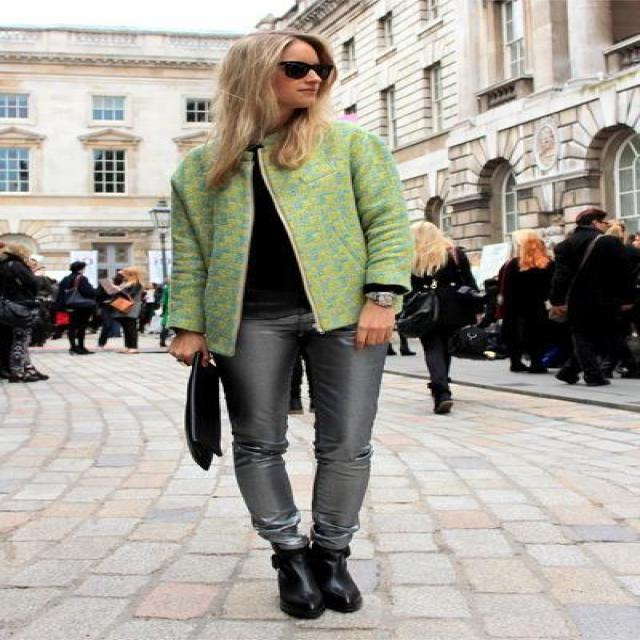bag: (178, 346, 246, 469)
jacket: (134, 129, 424, 357)
pants: (232, 310, 402, 550)
shirt: (244, 144, 302, 302), (238, 288, 310, 337)
shoe: (272, 550, 360, 619)
sunglass: (278, 61, 325, 87)
